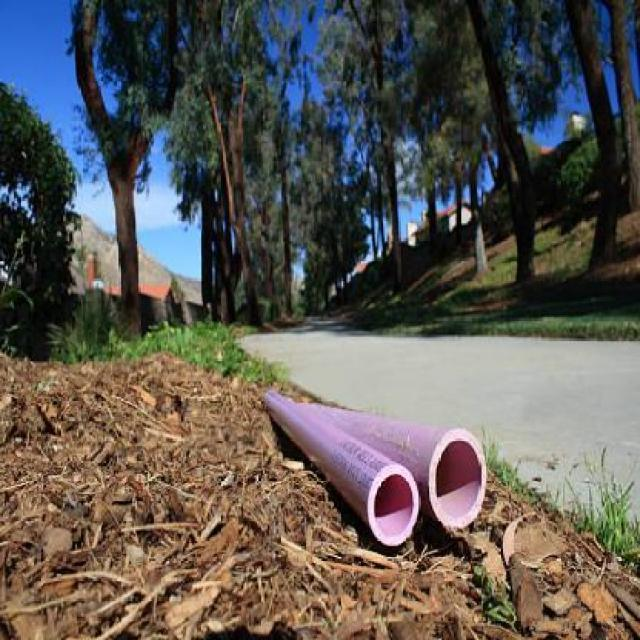pipe: (429, 428, 486, 527), (368, 465, 420, 546)
